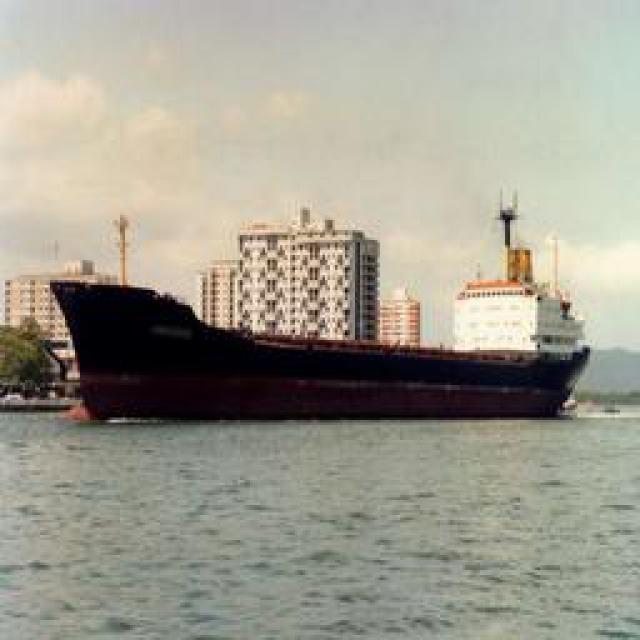Ship: (52, 174, 605, 427)
